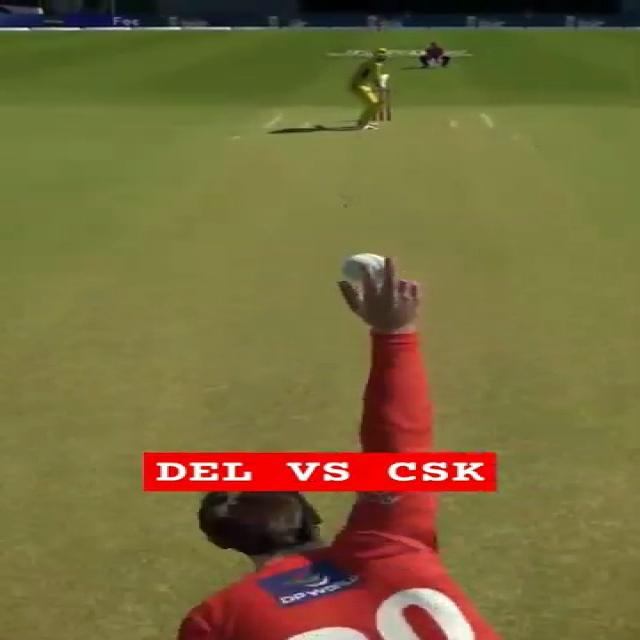ball: (338, 251, 386, 283)
